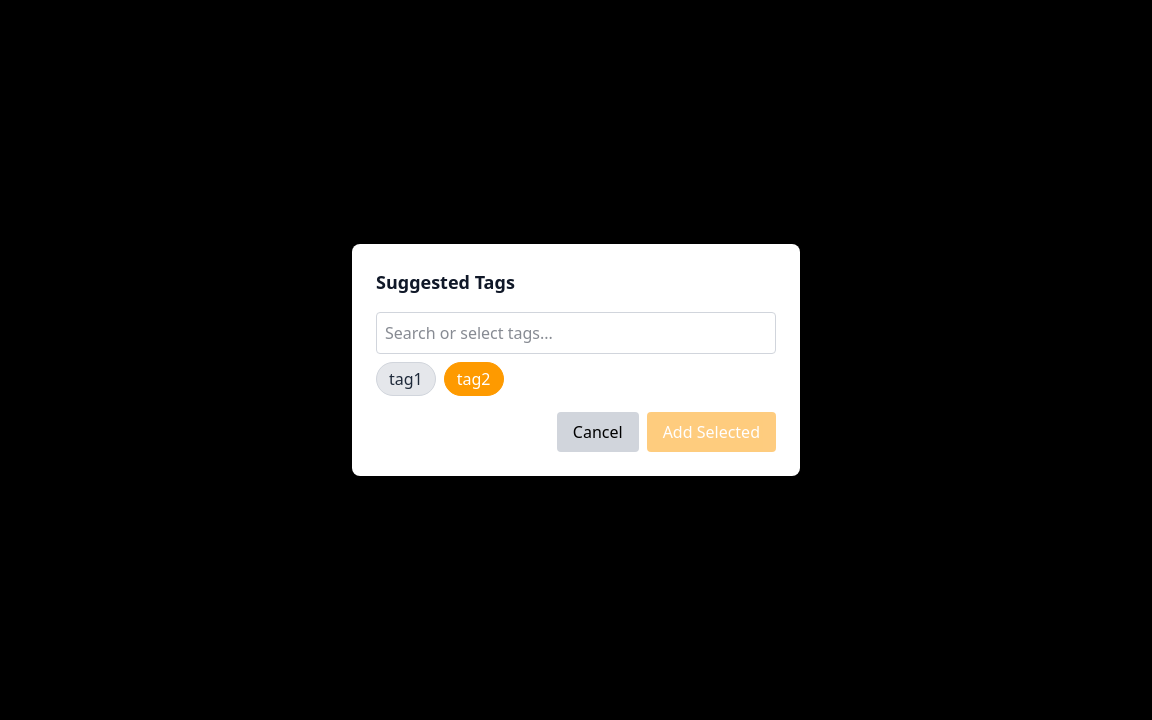
it: TagSuggestionModal › search input filters dropdown tags and allows selection
# Focus input to show dropdown
Type "3" into the field with placeholder "Search or select tags..." at (576, 333), box [376,312,776,354]
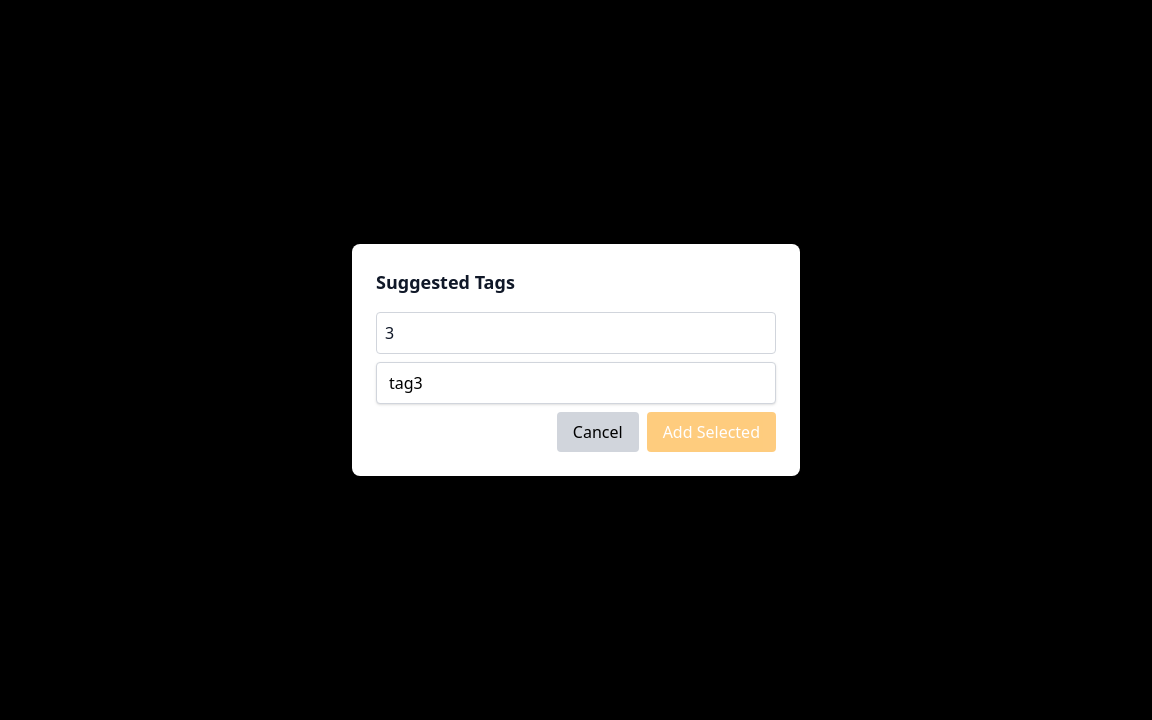
Expected: the button "tag1" is shown, [376,362,436,396]
Result: the list item "tag3" is shown
# Click tag3 in dropdown to select it
Click the list item "tag3" at (406, 383), box [389,372,423,394]
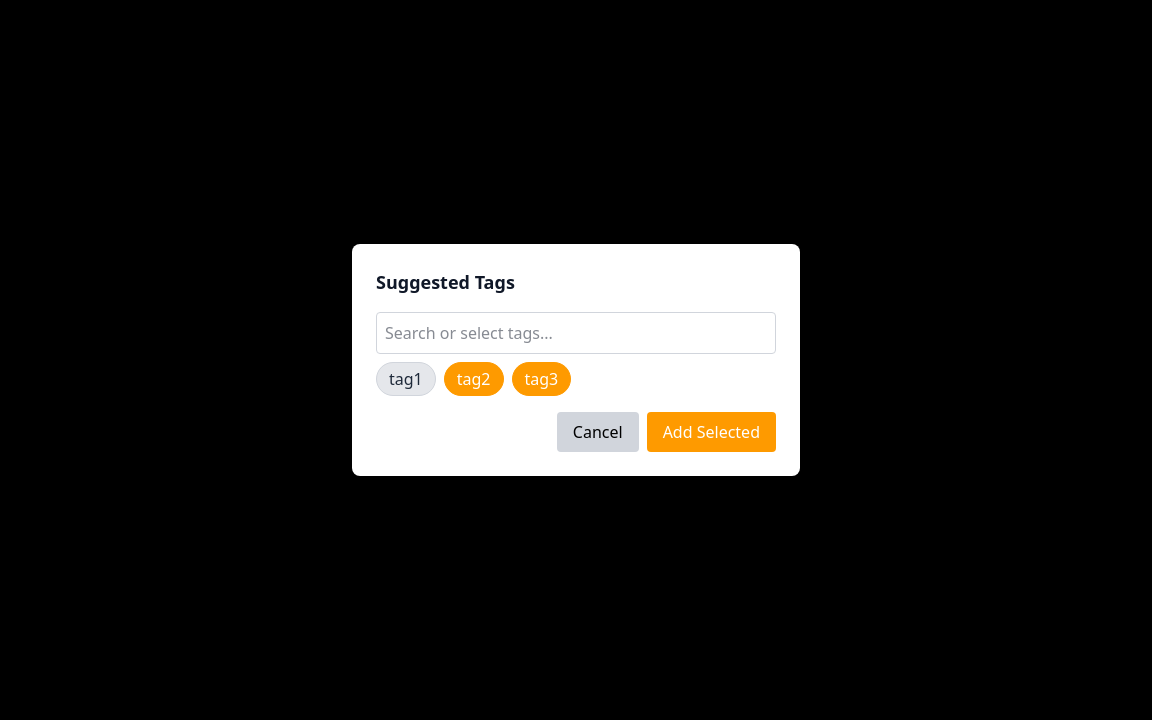
Result: the button "tag3" is shown at [512,362,571,396]
Result: the list is gone
